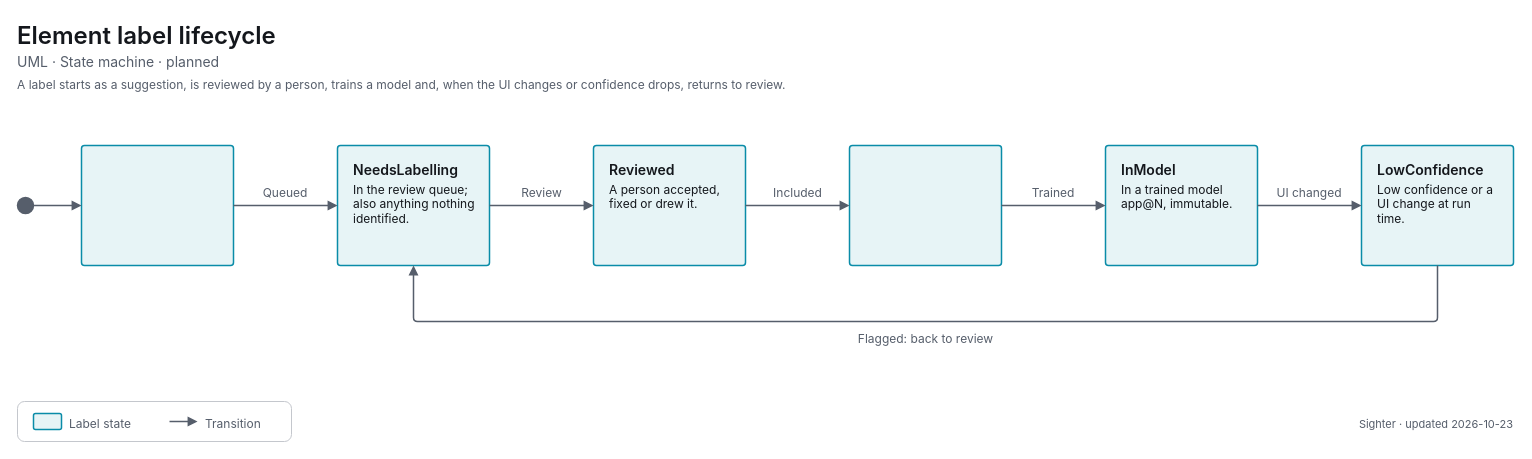
The diagram is 1532 pixels wide and 459 high, and some of its shapes have lost their labels. Each missing label, with the centre of its shape:
InTrainingSet Split by session; reviewed labels only.: pixel 925 205
Suggested OCR, template, detector or Pitwall proposed a box.: pixel 157 205
